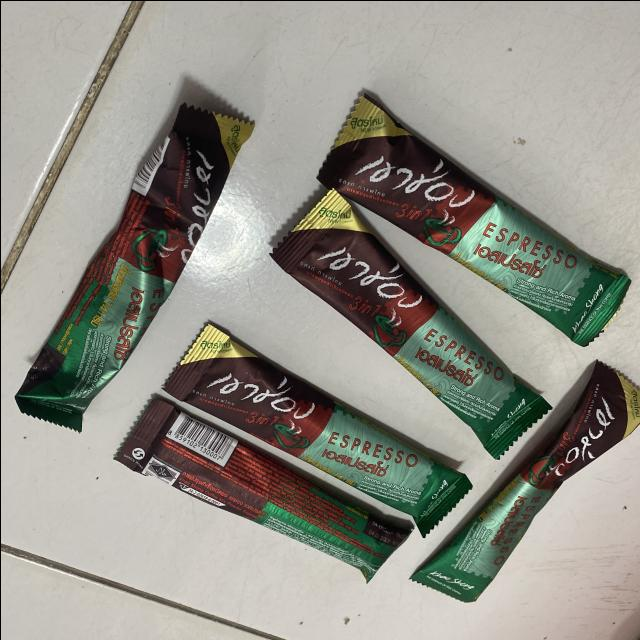plastik: (318, 94, 629, 346), (14, 103, 253, 430), (271, 189, 550, 457), (164, 326, 471, 535), (410, 361, 640, 601), (115, 399, 410, 581)
